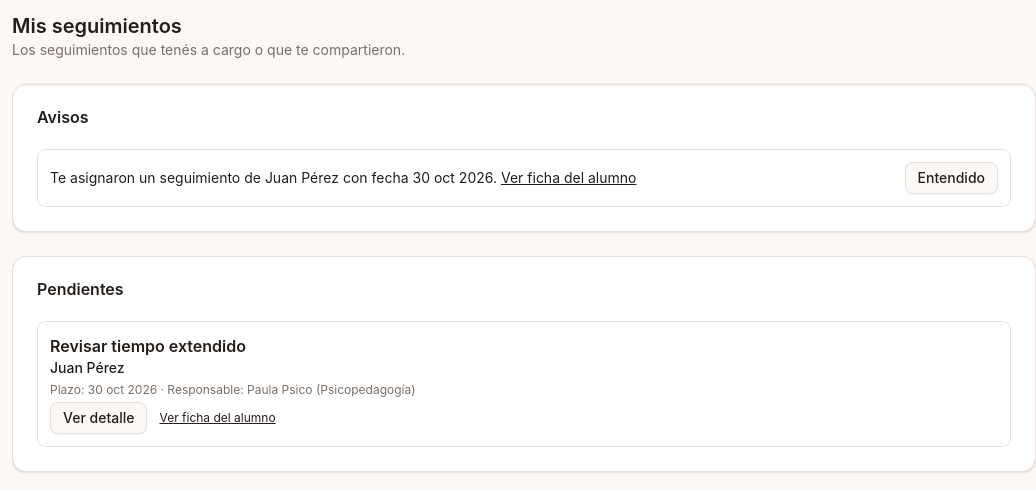
Scenario: FollowUpsSection › lists pending follow-ups and lets the user dismiss an assignment notice
Expected: the text "Revisar tiempo extendido" is shown, [50,336,246,356]
Expected: the text "Juan Pérez" is shown, [50,359,125,376]
What coordinates should you click on to do the following:
click the button "Entendido"
I would click on:
 (951, 178)
Its box is [905,162,998,194].
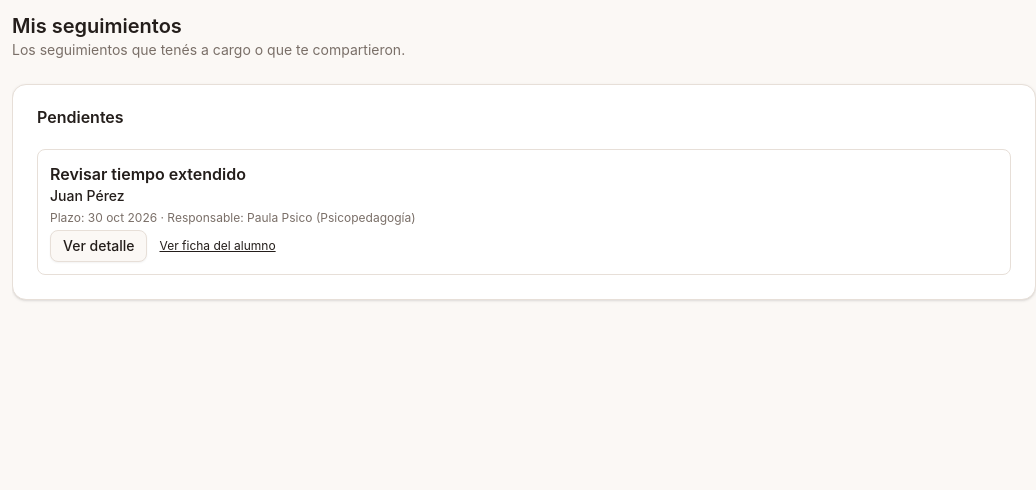
Expected: the text "Te asignaron un seguimiento" is gone
